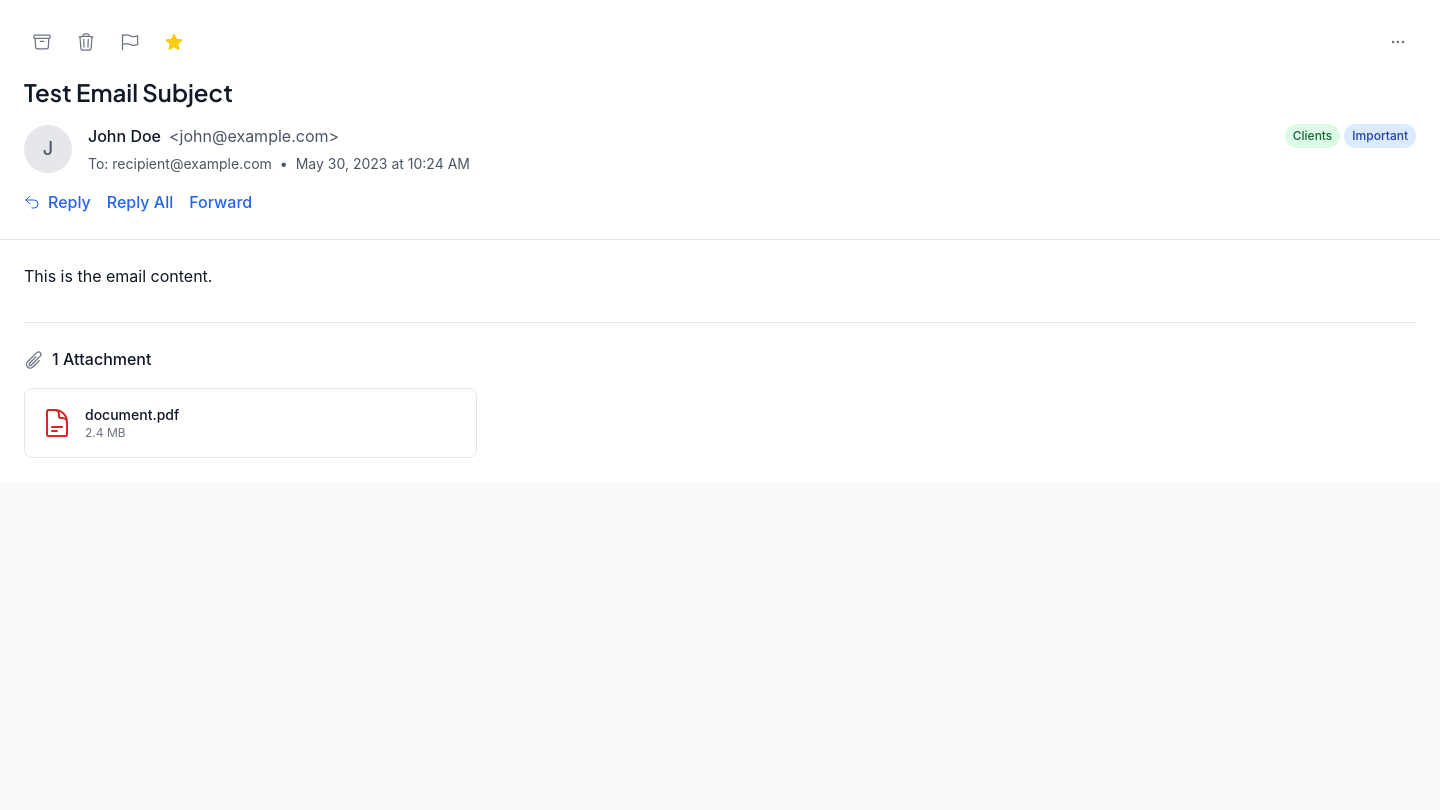
EmailViewer › shows reply box when reply button is clicked
Step 1. Click the button "Reply" → (57, 202), box [24,190,91,215]
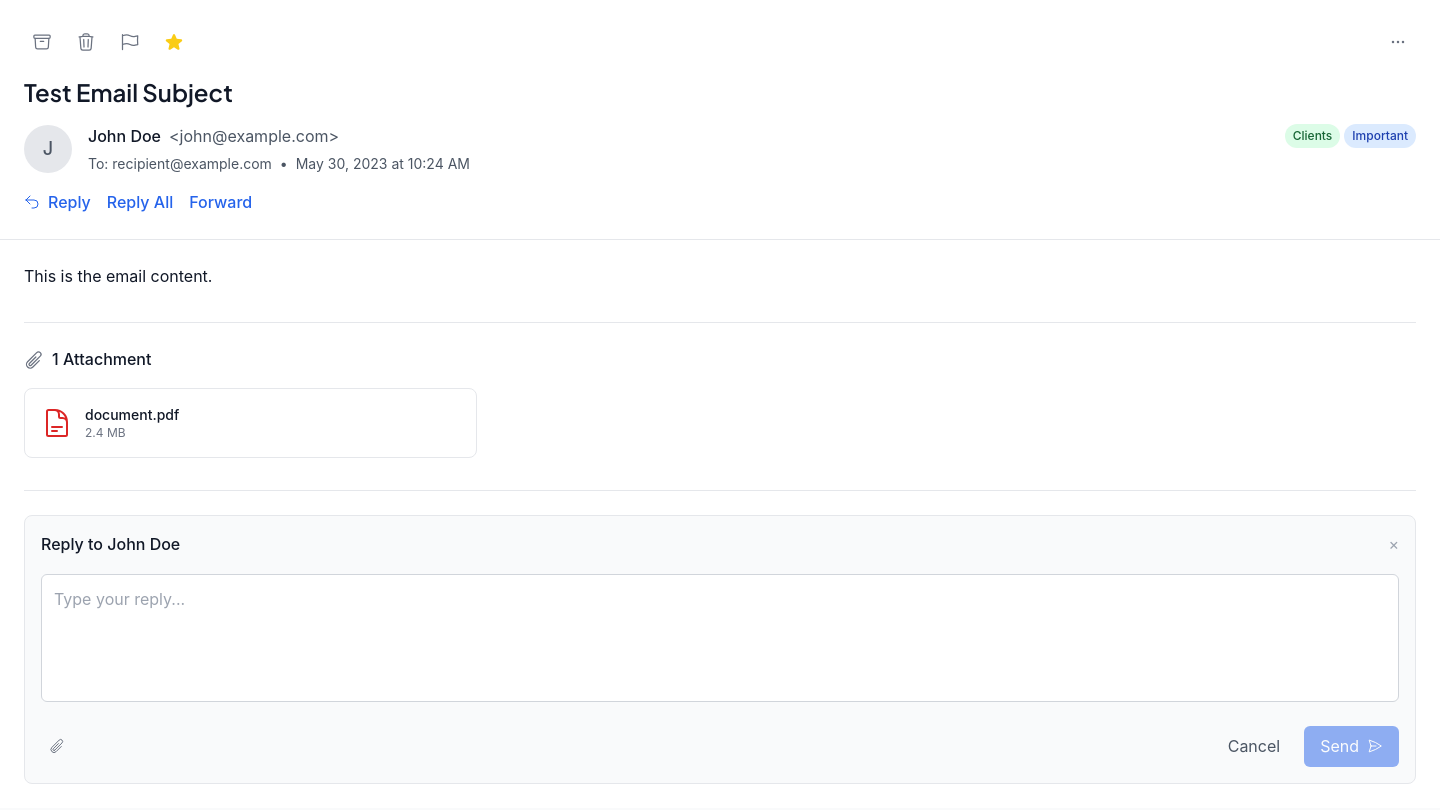
Now the text "Reply to John Doe" is shown, box [41,532,180,558]
Now the text box with placeholder "Type your reply..." is shown, box [41,574,1399,702]
